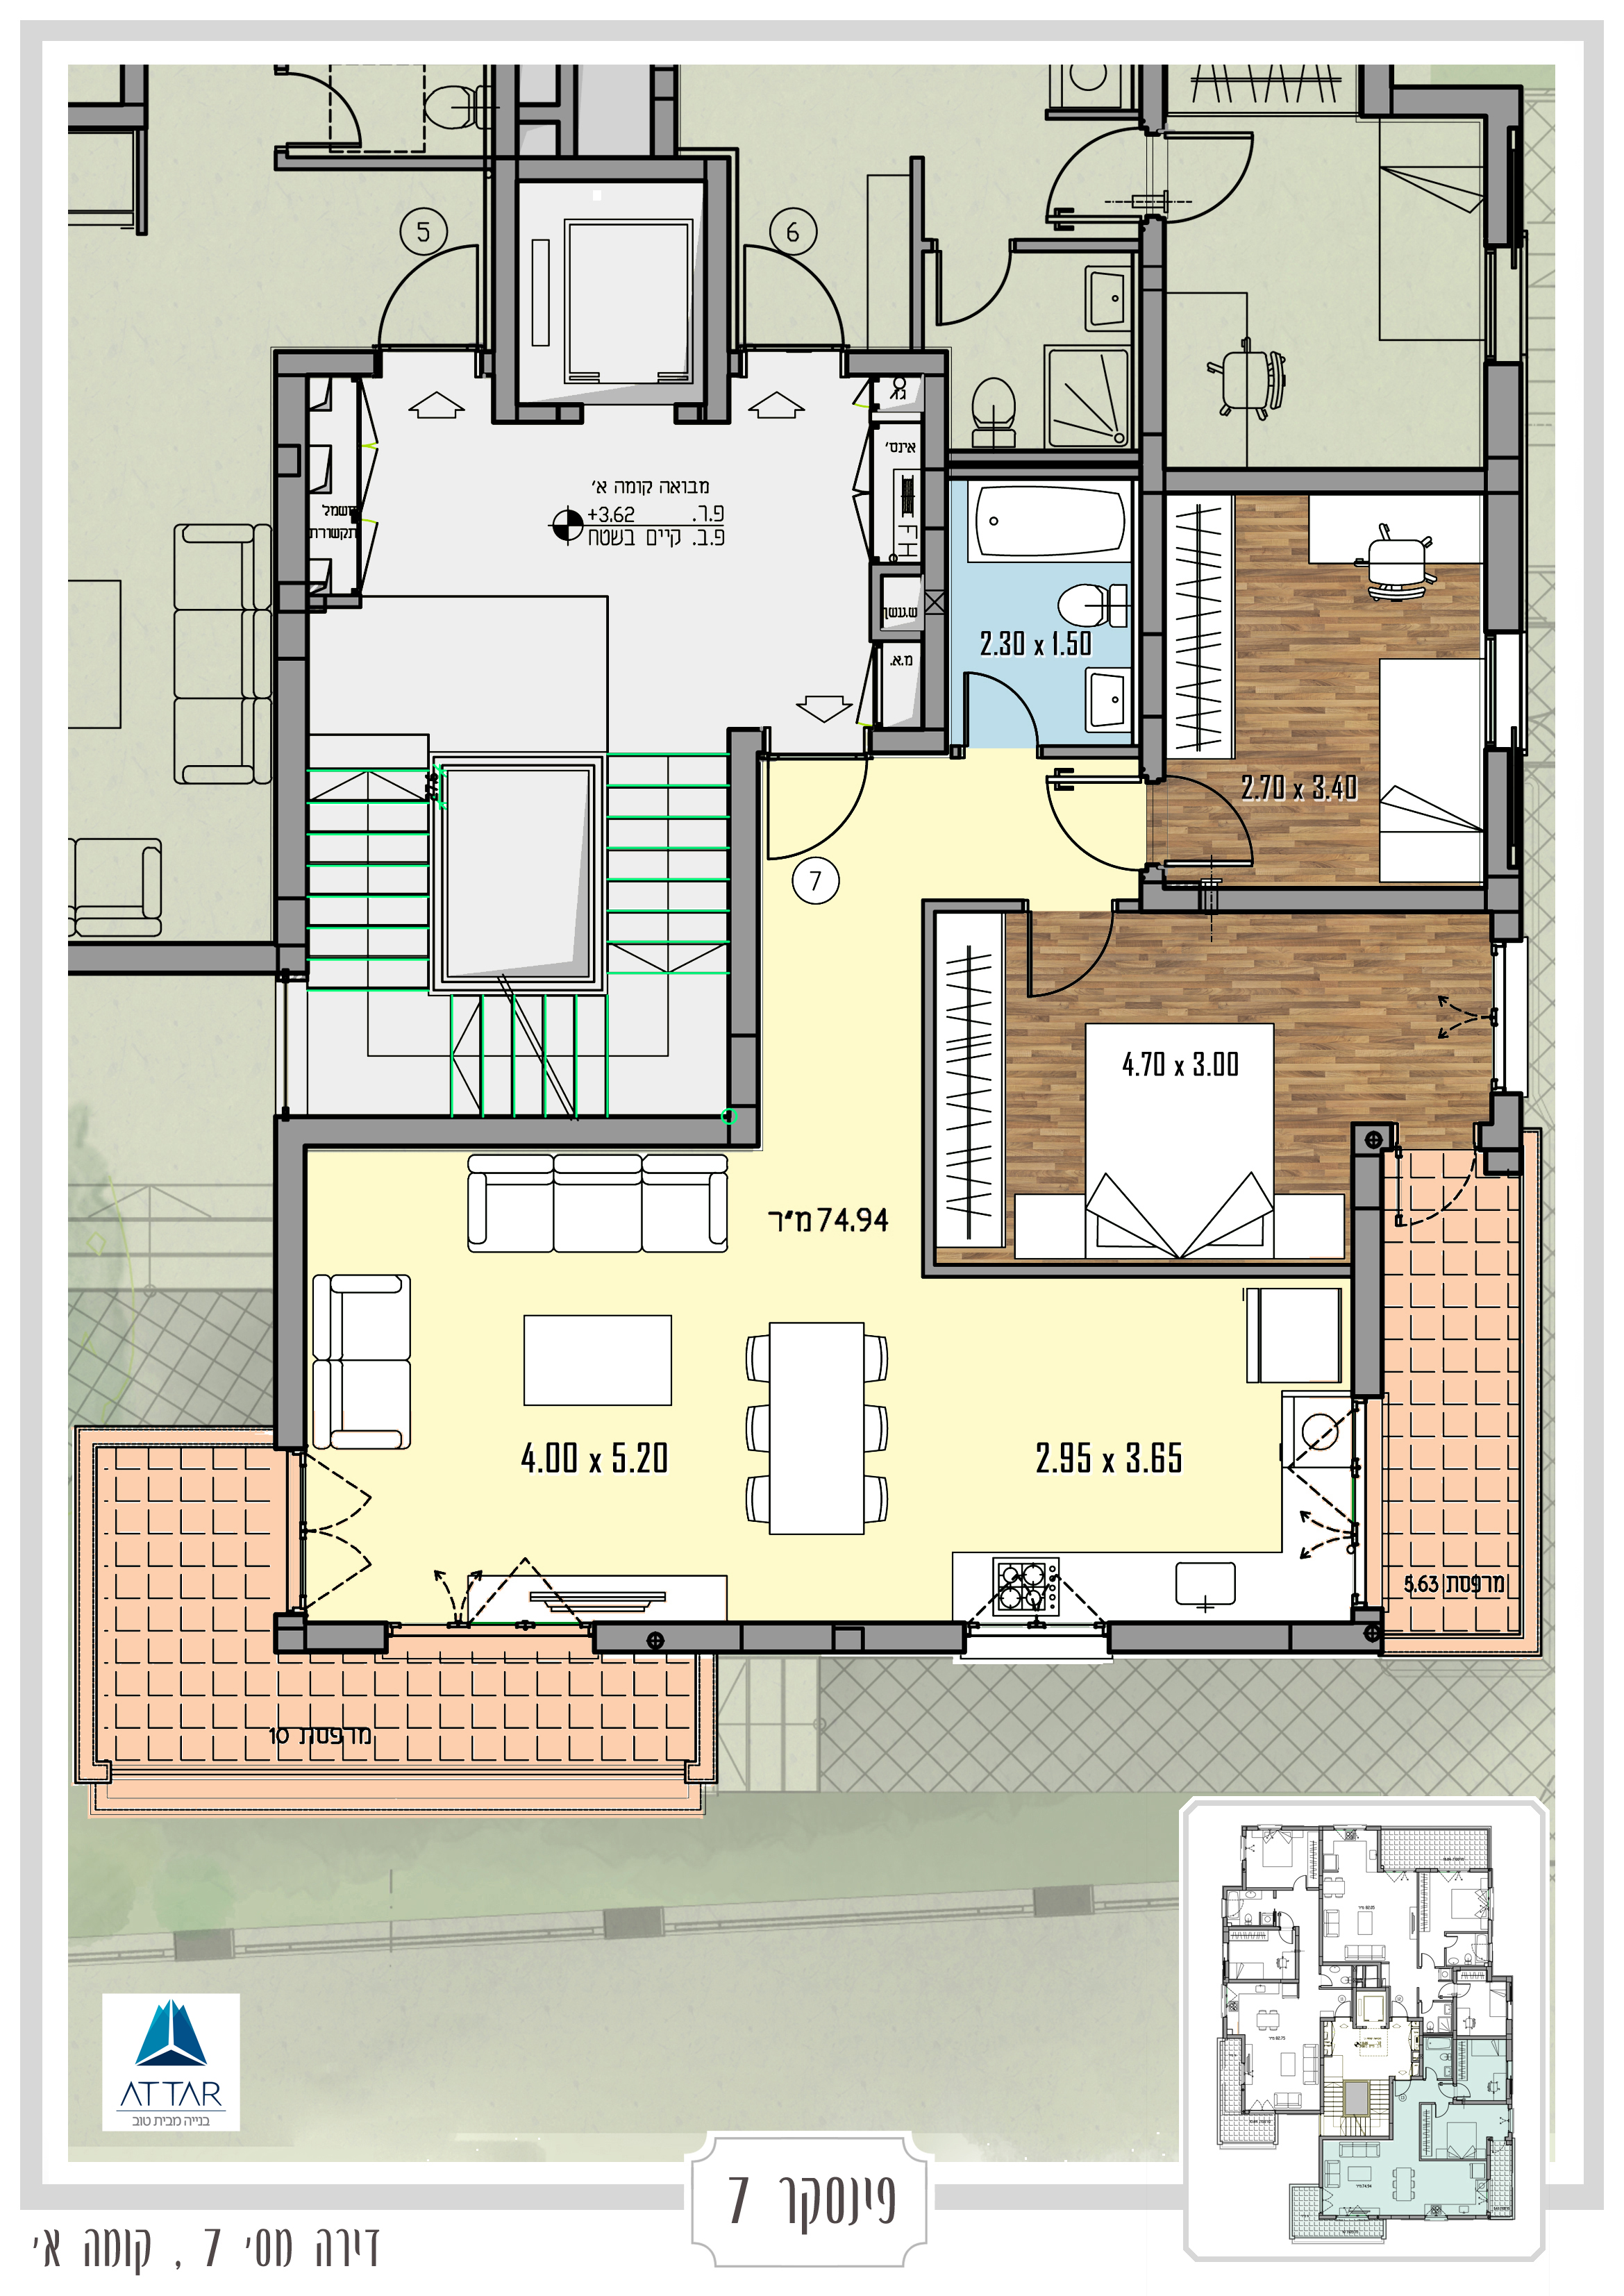door: (766, 766, 872, 861), (1039, 123, 1130, 221), (1174, 130, 1265, 228), (1048, 776, 1135, 877), (1019, 924, 1114, 1003), (963, 662, 1044, 734), (937, 260, 1018, 332), (315, 1455, 376, 1521), (313, 1532, 371, 1602)
window: (1485, 251, 1496, 358), (1487, 639, 1496, 745)
